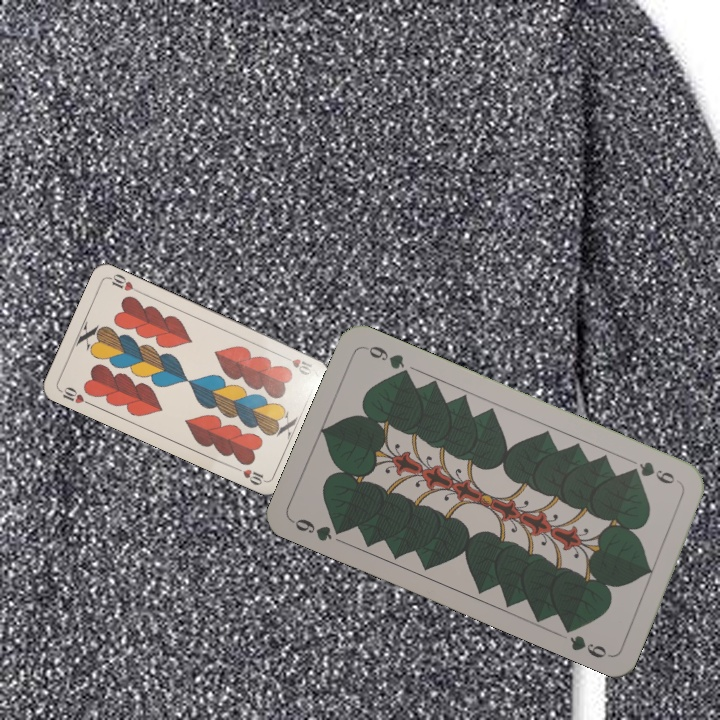G9: (288, 514, 349, 544), (625, 457, 684, 488)
H10: (278, 351, 316, 378), (56, 383, 94, 408)
